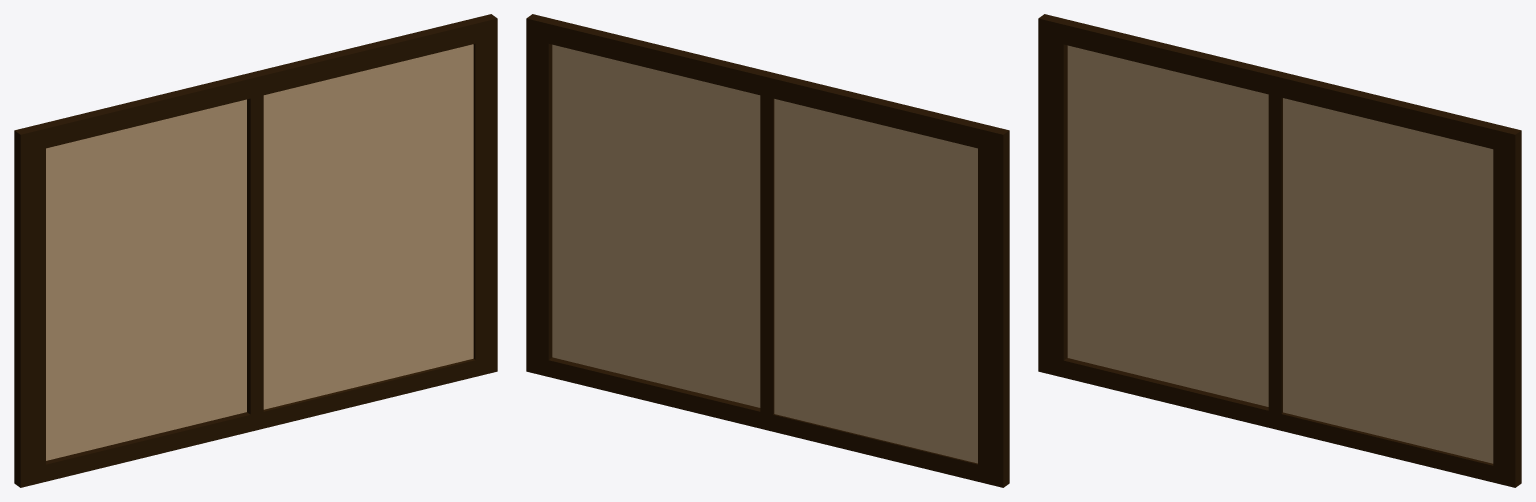
Rendered from puerta1.fbx.
3 views of the same model, side by side, from view 1: azimuth 30°, elevation 25°; view 2: azimuth 150°, elevation 25°; view 3: azimuth 330°, elevation 25° (orthographic).
Visible parts, largest first — view 1: Cube.011; view 2: Cube.011; view 3: Cube.011.
Boxes of the visible parts, <box> form: Cube.011: <box>14,14,497,487</box>; Cube.011: <box>526,14,1009,487</box>; Cube.011: <box>1038,14,1521,487</box>.
Size of the model in its own units: 5035 by 3562 by 112.
